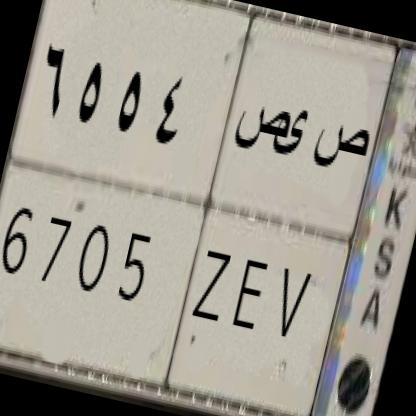english: (0, 144, 362, 416)
